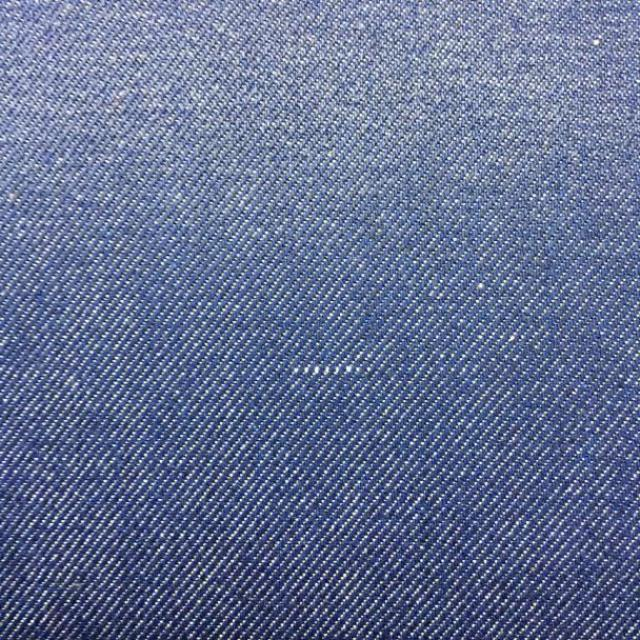Knot: (292, 364, 363, 378)
